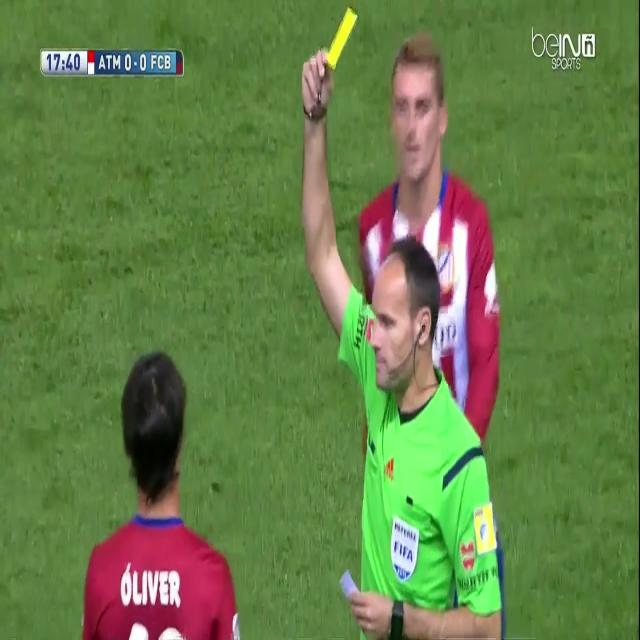Player: (360, 32, 502, 433), (81, 343, 243, 640)
Referee: (298, 49, 508, 640)
